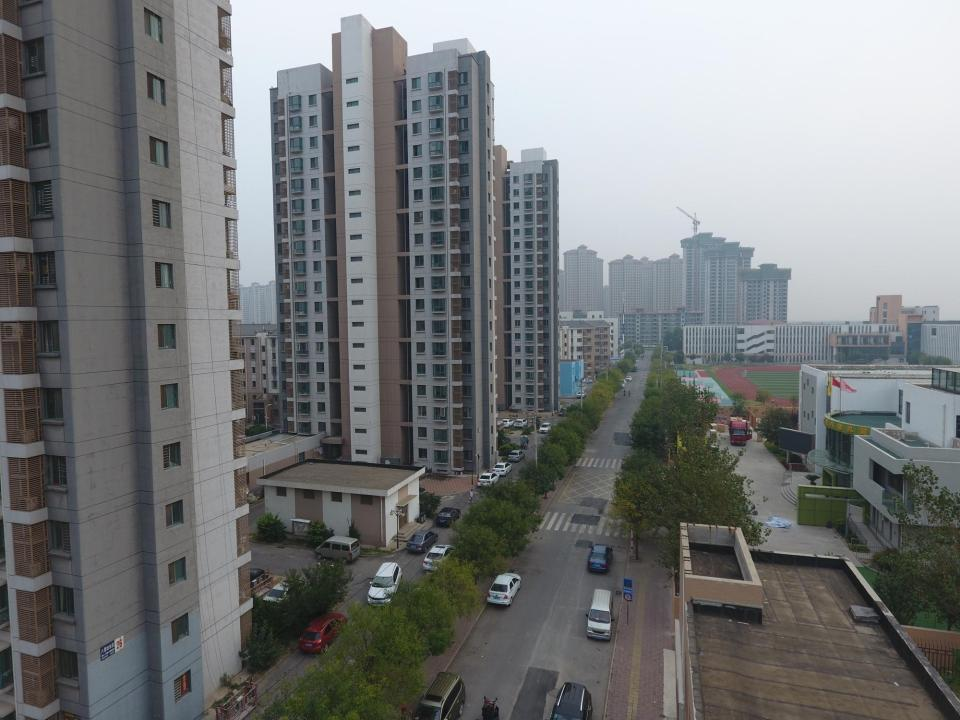car: (299, 612, 348, 654), (259, 578, 308, 614), (367, 562, 402, 607), (487, 572, 522, 606), (422, 544, 458, 572), (227, 568, 265, 592), (587, 544, 613, 572), (406, 530, 438, 552), (435, 507, 462, 527), (397, 484, 427, 500), (478, 472, 500, 487), (493, 461, 512, 477), (507, 450, 525, 462), (539, 422, 552, 433), (514, 418, 528, 428), (500, 419, 514, 428), (559, 406, 571, 416), (576, 390, 586, 398), (614, 382, 626, 388), (616, 378, 626, 384), (582, 378, 592, 384), (626, 376, 632, 381)
truck: (729, 415, 753, 446), (631, 365, 637, 372)
van: (409, 671, 467, 720), (549, 682, 592, 720), (586, 589, 616, 642), (315, 535, 361, 564), (494, 420, 504, 433)
